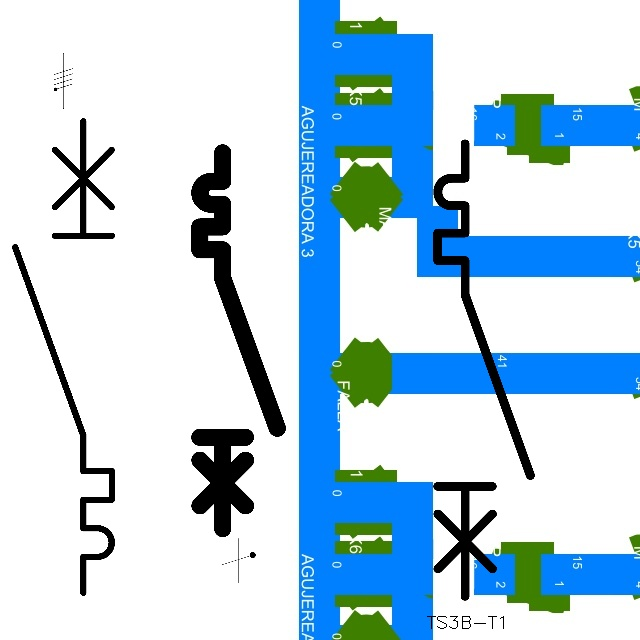interruptor_termomagnetico: (3, 109, 124, 605), (426, 132, 542, 608), (190, 143, 287, 538)
